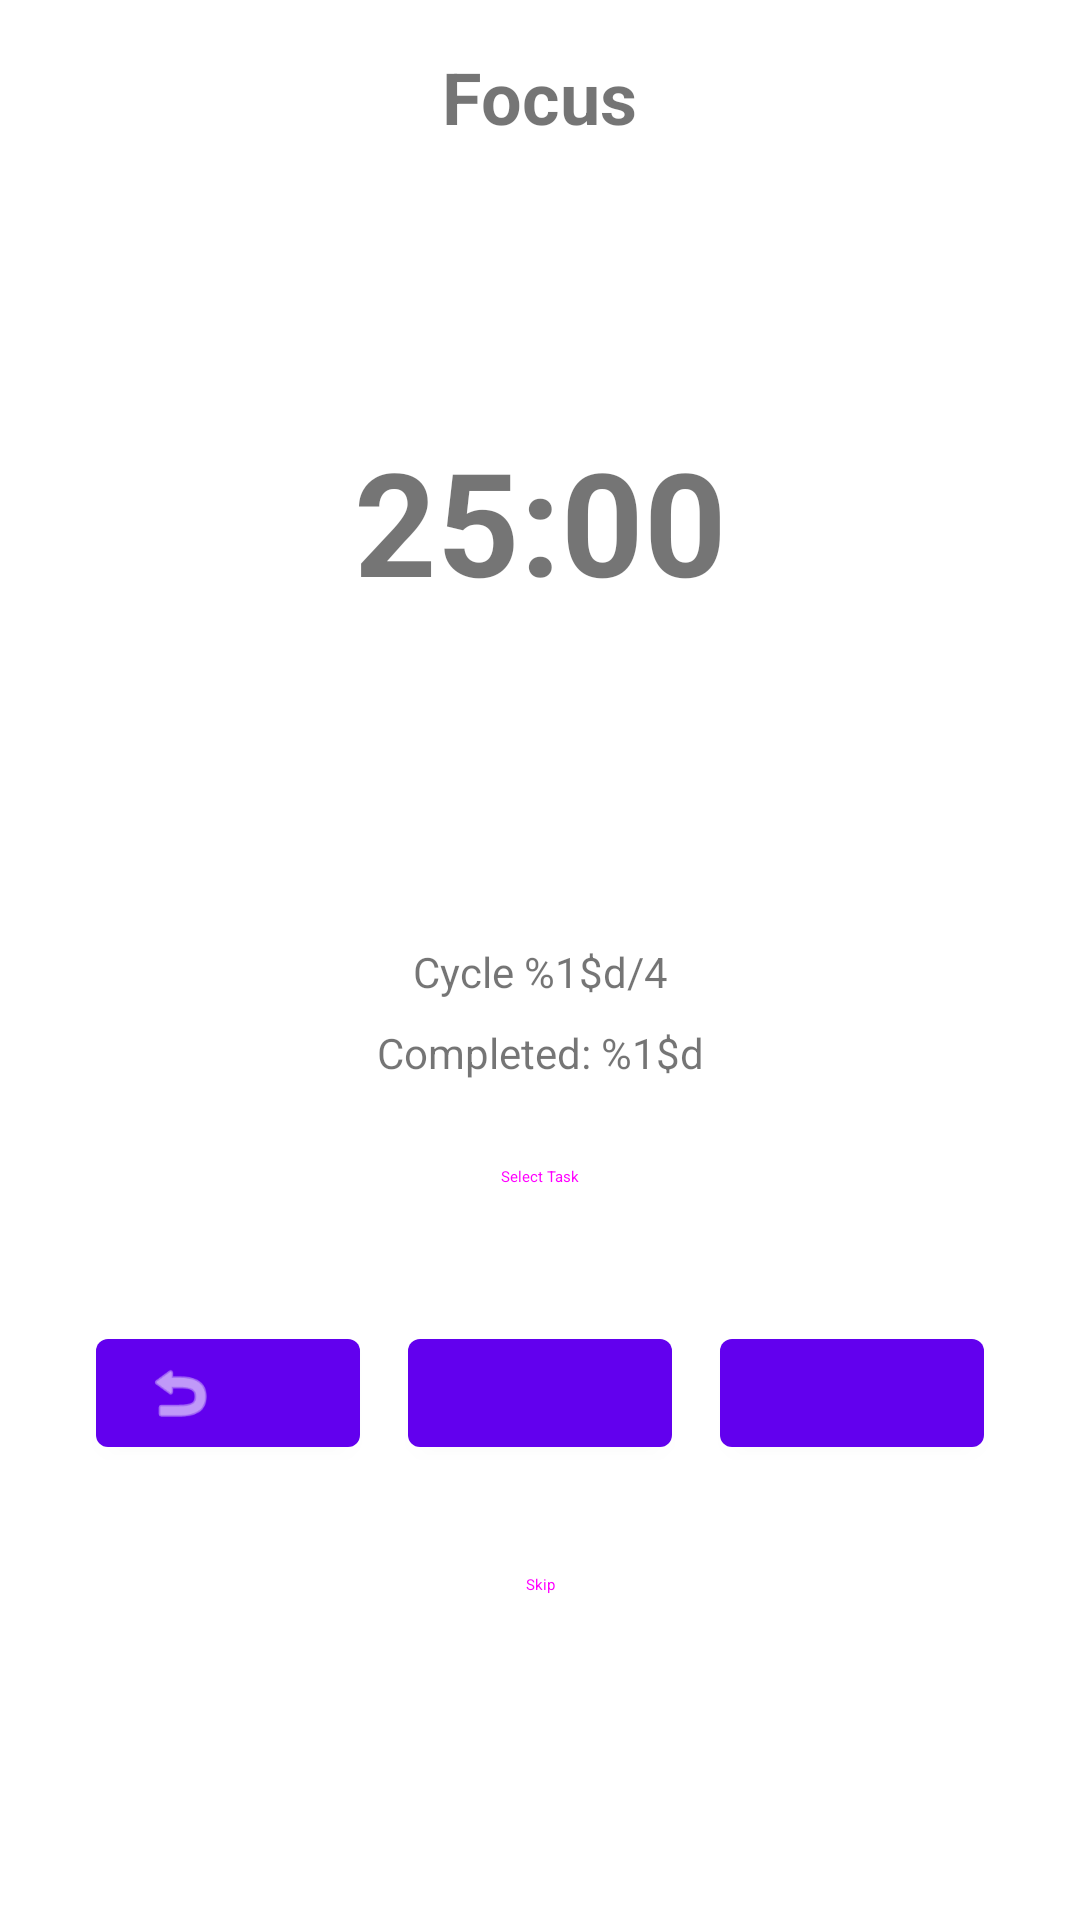

Locate icon controls on the screen. Image size 1080px x 1920px, boxes as BBox(x1, y1, x2, y2).
Reset: BBox(96, 1339, 360, 1447)
